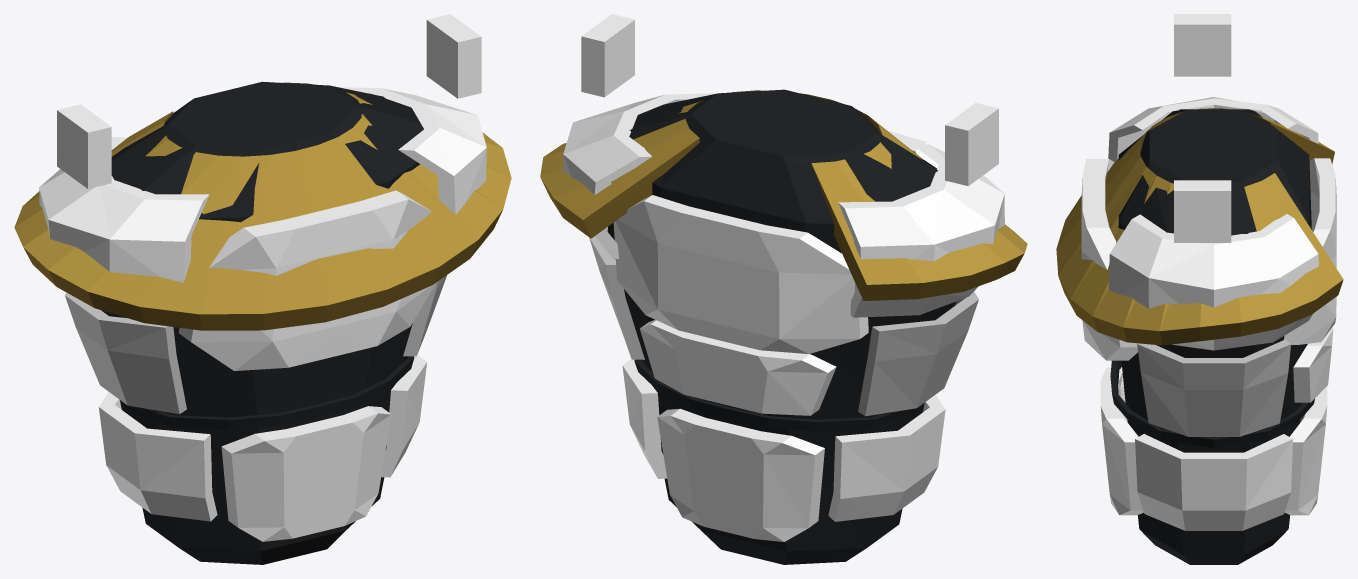
The model's file is person_hulk_armor_marine_prestige.obj.
3 views of the same model, side by side, from view 1: azimuth 30°, elevation 25°; view 2: azimuth 150°, elevation 25°; view 3: azimuth 270°, elevation 25° (orthographic). The views are drawn at different scales.
Visible parts, largest first — view 1: person_hulk_armor_marine_prestige, person_hulk_armor_marine_prestige_addons; view 2: person_hulk_armor_marine_prestige, person_hulk_armor_marine_prestige_addons; view 3: person_hulk_armor_marine_prestige, person_hulk_armor_marine_prestige_addons.
Part boxes in pixels (box(x1,y1,x2,y2)): person_hulk_armor_marine_prestige: box(39, 81, 486, 564); person_hulk_armor_marine_prestige_addons: box(14, 14, 511, 330); person_hulk_armor_marine_prestige: box(563, 89, 1004, 564); person_hulk_armor_marine_prestige_addons: box(540, 14, 1027, 300); person_hulk_armor_marine_prestige: box(1081, 97, 1336, 564); person_hulk_armor_marine_prestige_addons: box(1056, 14, 1343, 345).
Size of the model in its own units: 0.8634 by 0.825 by 0.5013.
